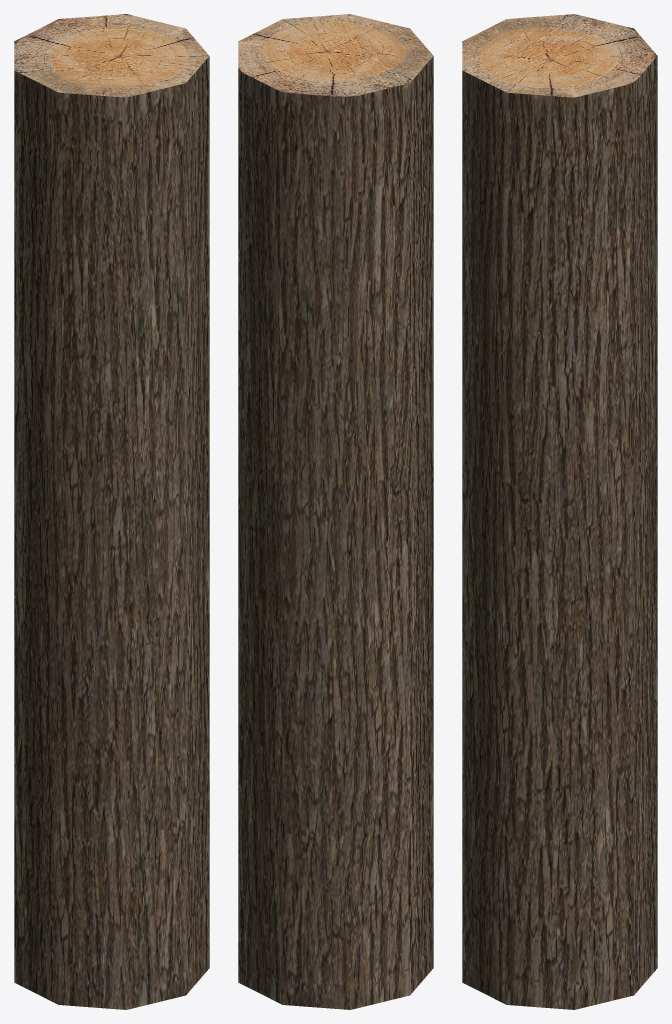
The model's file is Palo.fbx.
The picture shows the model from 3 angles, left to right: view 1: azimuth 30°, elevation 25°; view 2: azimuth 150°, elevation 25°; view 3: azimuth 270°, elevation 25°; orthographic projection.
Parts seen in each view (by area): view 1: Cylinder; view 2: Cylinder; view 3: Cylinder.
Part boxes in pixels (<box>): Cylinder: <box>14,14,209,1009</box>; Cylinder: <box>238,14,433,1009</box>; Cylinder: <box>462,14,657,1009</box>.
Bounding box in the file's own units: 39.39 × 200 × 38.79.
